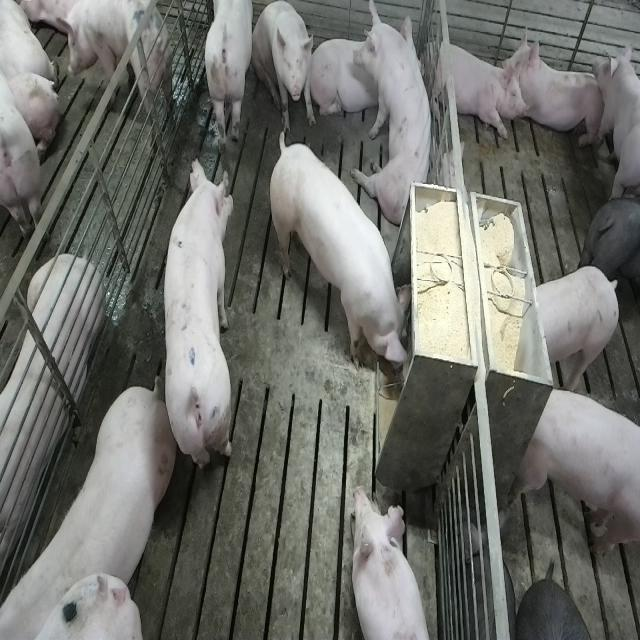Feeding: (273, 135, 419, 385)
Sitting: (356, 5, 439, 232), (252, 1, 316, 132)
Standing: (161, 157, 235, 479), (513, 384, 639, 566), (66, 0, 177, 131), (535, 265, 621, 395), (202, 2, 256, 151), (595, 39, 640, 204), (582, 192, 640, 309)
Sternal_lying: (0, 250, 102, 581), (350, 484, 431, 640), (503, 24, 605, 147), (312, 23, 425, 127), (426, 31, 523, 141)
